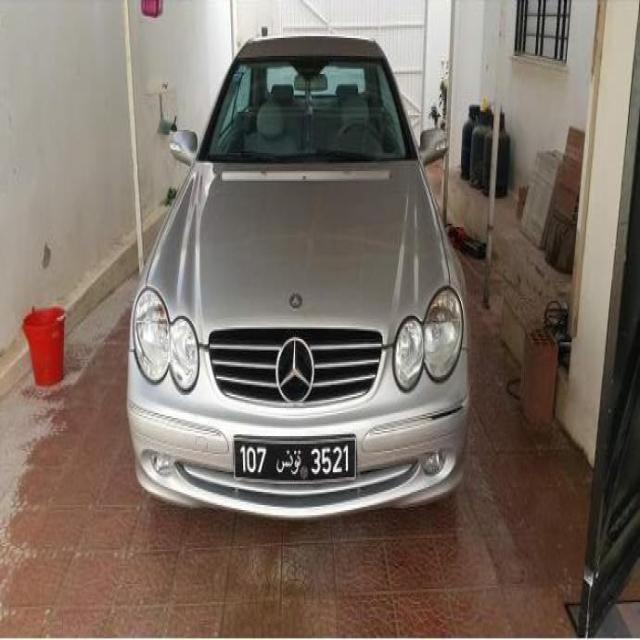LP: (230, 433, 358, 482)
